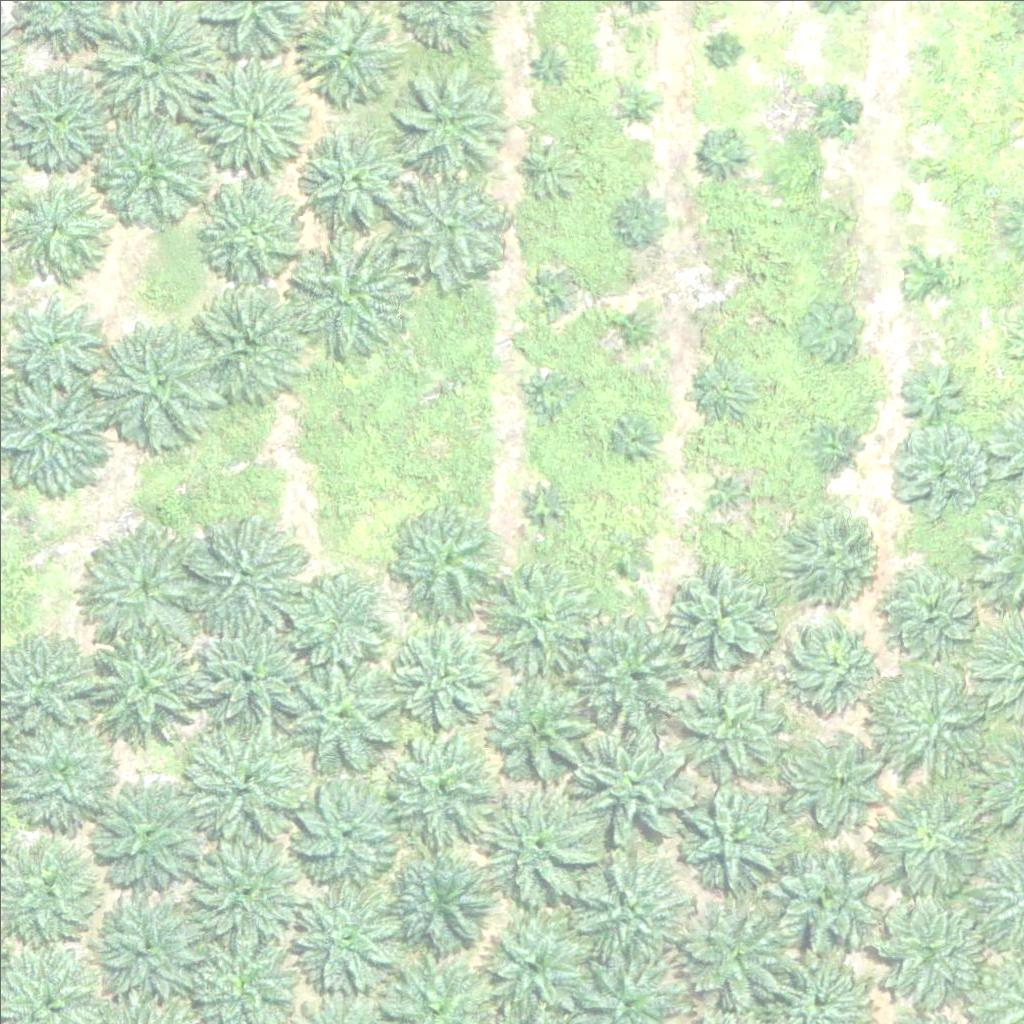Kelapa_Sawit: (666, 657, 791, 783), (565, 848, 690, 974), (570, 713, 695, 839), (570, 598, 695, 724), (473, 783, 598, 909), (483, 670, 608, 796), (287, 866, 412, 992), (282, 646, 407, 772), (177, 826, 302, 952), (178, 718, 303, 844), (182, 510, 307, 636), (83, 625, 208, 751), (79, 521, 204, 647), (98, 314, 223, 440), (281, 229, 406, 355), (89, 106, 214, 232), (864, 657, 989, 782), (2, 708, 127, 833), (393, 621, 506, 735), (381, 728, 494, 842), (280, 559, 393, 673), (191, 287, 304, 401), (873, 896, 986, 1009), (873, 783, 986, 896), (775, 845, 888, 958), (661, 555, 774, 668), (389, 503, 502, 616), (378, 841, 491, 954), (94, 775, 207, 888), (93, 889, 206, 1002), (201, 61, 314, 174), (682, 893, 794, 1007), (680, 781, 792, 894), (483, 555, 595, 668), (289, 771, 401, 884), (197, 615, 309, 728), (393, 169, 505, 282), (384, 63, 496, 176), (879, 557, 979, 658), (789, 729, 889, 830), (787, 612, 887, 713), (789, 499, 889, 600), (6, 290, 106, 391), (303, 131, 403, 232), (297, 3, 397, 104), (884, 422, 984, 523), (8, 176, 108, 276), (10, 67, 110, 167), (204, 183, 304, 283), (795, 292, 870, 367), (609, 187, 672, 250), (692, 356, 754, 419), (901, 365, 963, 428), (523, 142, 573, 193), (907, 254, 957, 305), (700, 129, 750, 180), (607, 307, 657, 358), (609, 417, 659, 467), (808, 83, 858, 133), (523, 270, 573, 320), (520, 480, 570, 530), (524, 369, 574, 419), (704, 465, 754, 515), (601, 534, 651, 584), (612, 80, 662, 130), (812, 199, 850, 237), (814, 424, 852, 461), (702, 279, 727, 304), (536, 50, 561, 75), (713, 36, 738, 61), (914, 43, 939, 68), (914, 159, 939, 184)
